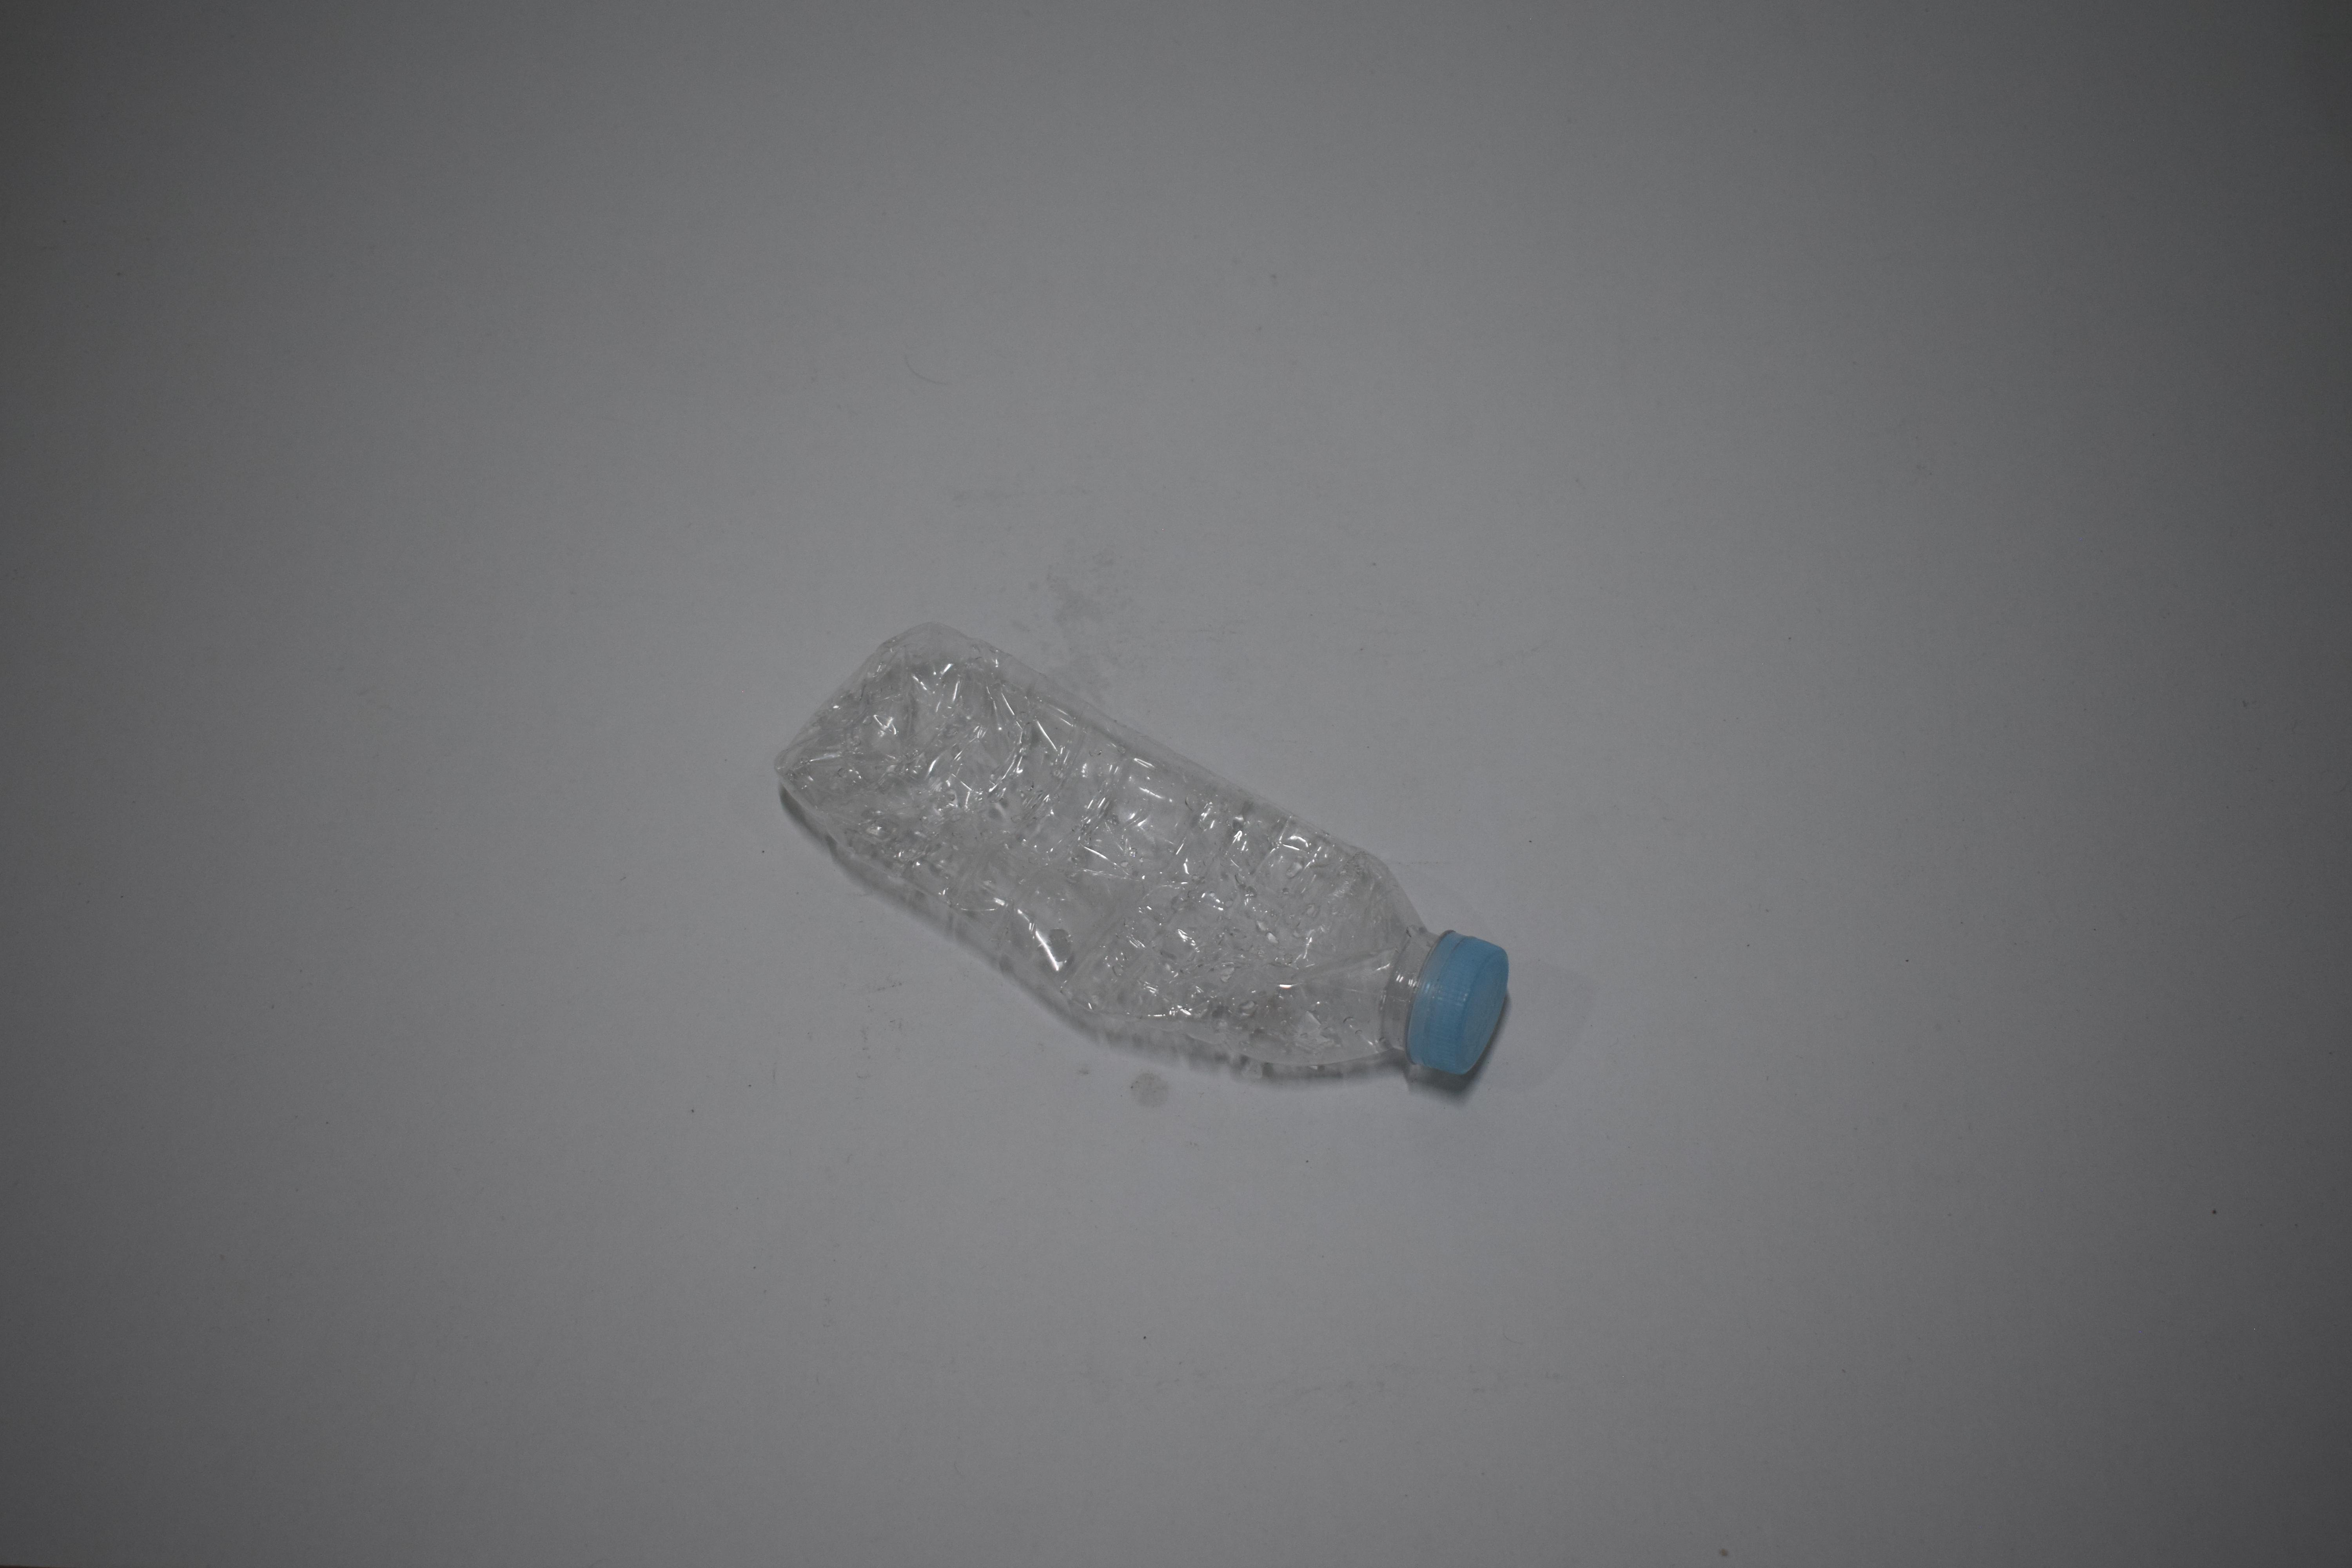bottle: (752, 0, 1505, 313)
